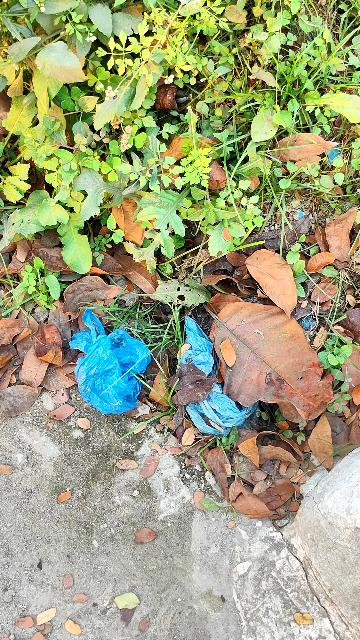polythene: (69, 307, 248, 441)
